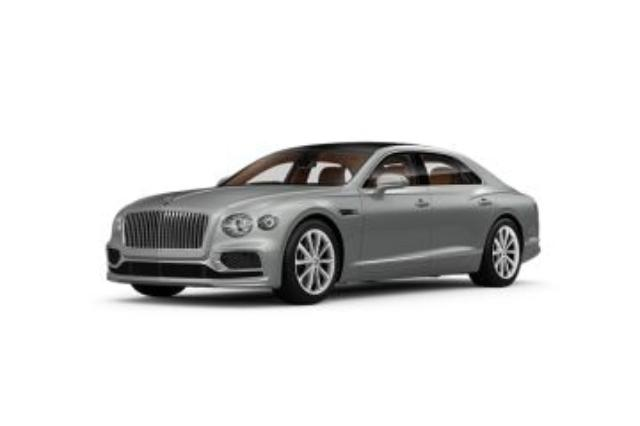bentley: (105, 141, 540, 303)
